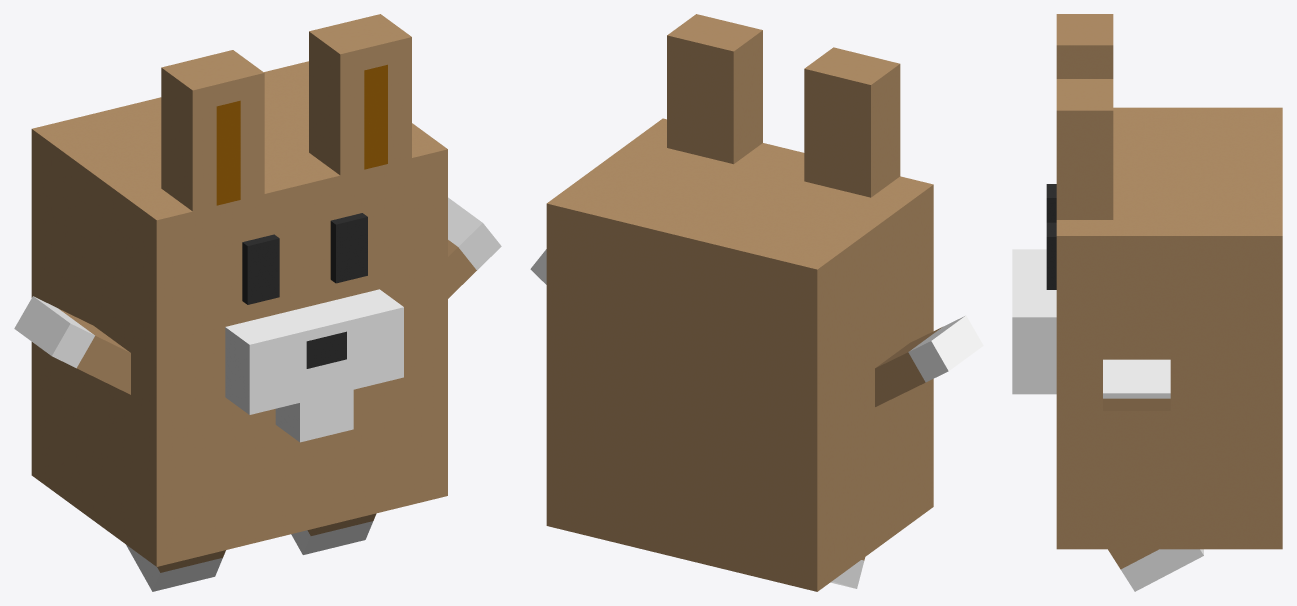
3 views of the same model, side by side, from view 1: azimuth 30°, elevation 25°; view 2: azimuth 150°, elevation 25°; view 3: azimuth 270°, elevation 25° (orthographic). The views are drawn at different scales.
Visible parts, largest first — view 1: Ch_26, Ch_26_Ear, Ch_26_Hand_L, Ch_26_Hand_R, Ch_26_Leg_L, Ch_26_Leg_R; view 2: Ch_26, Ch_26_Ear, Ch_26_Hand_L; view 3: Ch_26, Ch_26_Ear, Ch_26_Hand_R, Ch_26_Leg_R.
Boxes of the visible parts, x1,y1,x2,y2 form: Ch_26: (31, 61, 447, 566); Ch_26_Ear: (161, 14, 411, 211); Ch_26_Hand_L: (14, 296, 130, 394); Ch_26_Hand_R: (448, 197, 501, 298); Ch_26_Leg_L: (126, 544, 225, 591); Ch_26_Leg_R: (291, 513, 376, 554); Ch_26: (546, 118, 933, 591); Ch_26_Ear: (667, 14, 900, 197); Ch_26_Hand_L: (875, 315, 983, 406); Ch_26: (1012, 107, 1282, 549); Ch_26_Ear: (1056, 14, 1113, 219); Ch_26_Hand_R: (1103, 359, 1170, 410); Ch_26_Leg_R: (1108, 549, 1203, 591).
Bounding box in the file's own units: 10.41 × 11.81 × 5.99.
